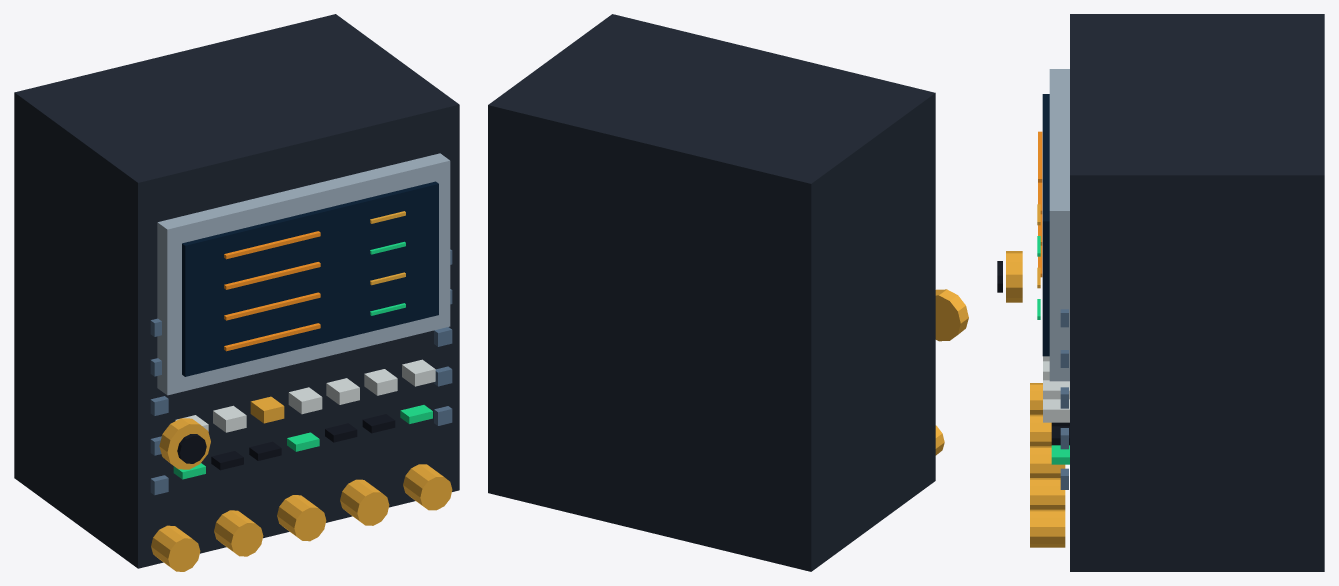
The model's file is 56_L86_StationAvionicsHeatLoadEmulator.fbx.
3 renders of one model, left to right at view 1: azimuth 30°, elevation 25°; view 2: azimuth 150°, elevation 25°; view 3: azimuth 270°, elevation 25°, orthographic. The views are drawn at different scales.
Visible parts, largest first — view 1: L86_StationAvionicsHeatLoadEmulator, L86_StationAvionicsHeatLoadEmulator_Part_0010, L86_StationAvionicsHeatLoadEmulator_Part_0011; view 2: L86_StationAvionicsHeatLoadEmulator, L86_StationAvionicsHeatLoadEmulator_Part_0010; view 3: L86_StationAvionicsHeatLoadEmulator, L86_StationAvionicsHeatLoadEmulator_Part_0010.
Boxes of the visible parts, x1,y1,x2,y2 form: L86_StationAvionicsHeatLoadEmulator: (14,14,459,571); L86_StationAvionicsHeatLoadEmulator_Part_0010: (159,418,210,469); L86_StationAvionicsHeatLoadEmulator_Part_0011: (177,434,206,463); L86_StationAvionicsHeatLoadEmulator: (488,14,944,571); L86_StationAvionicsHeatLoadEmulator_Part_0010: (935,289,968,341); L86_StationAvionicsHeatLoadEmulator: (1030,14,1324,571); L86_StationAvionicsHeatLoadEmulator_Part_0010: (1006,251,1022,302).
Bounding box in the file's own units: 96.44 × 110 × 82.16.
